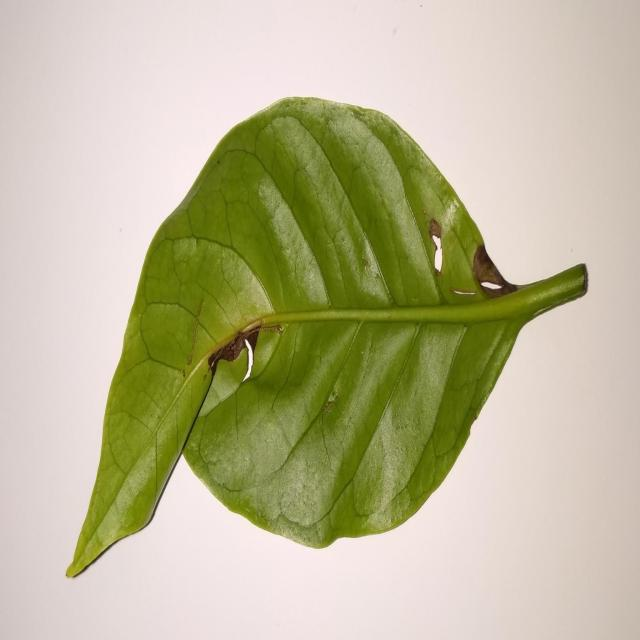Enfermedad-Antracnosis: (65, 98, 589, 581)
